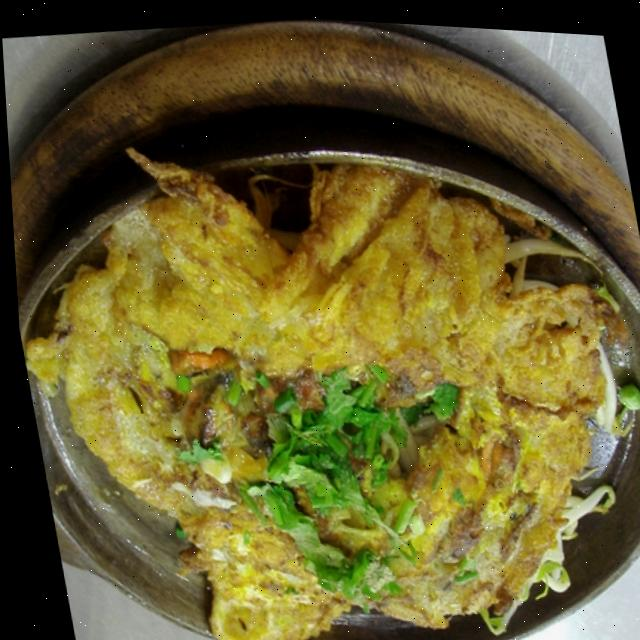炸货点心: (2, 34, 640, 640)
蛋糕甜品: (2, 34, 640, 640)
